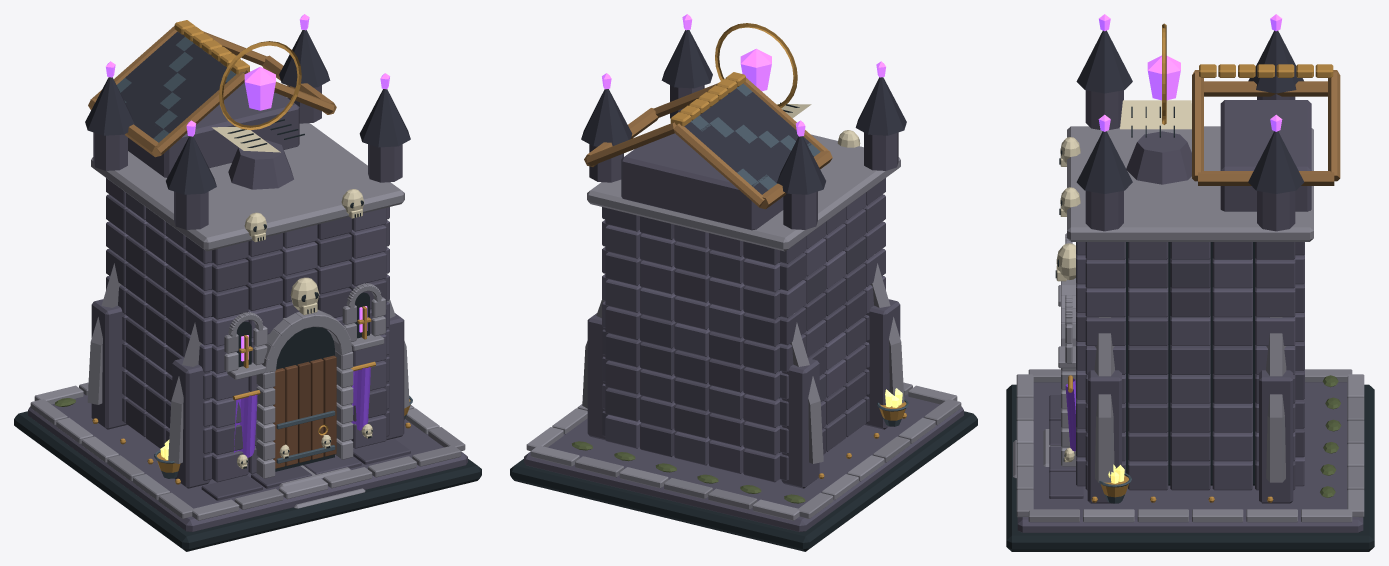
Rendered from necro__lich__L20.glb.
3 views of the same model, side by side, from view 1: azimuth 30°, elevation 25°; view 2: azimuth 150°, elevation 25°; view 3: azimuth 270°, elevation 25° (orthographic). The views are drawn at different scales.
Parts seen in each view (by area): view 1: structure, weapon, banners; view 2: structure, weapon; view 3: structure, weapon, banners.
Boxes of the visible parts, bbox=[...] form: structure: bbox=[14, 14, 481, 551]; weapon: bbox=[212, 41, 304, 189]; banners: bbox=[233, 361, 375, 457]; structure: bbox=[510, 14, 977, 551]; weapon: bbox=[715, 23, 811, 118]; structure: bbox=[1006, 14, 1374, 551]; weapon: bbox=[1120, 23, 1191, 184]; banners: bbox=[1065, 375, 1075, 451].
Size of the model in its own units: 0.803 by 1.08 by 0.803.
